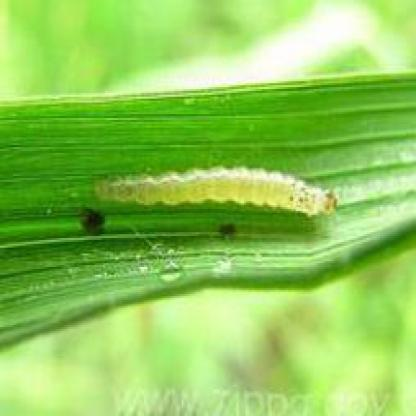leaf-folder: (86, 145, 342, 243)
